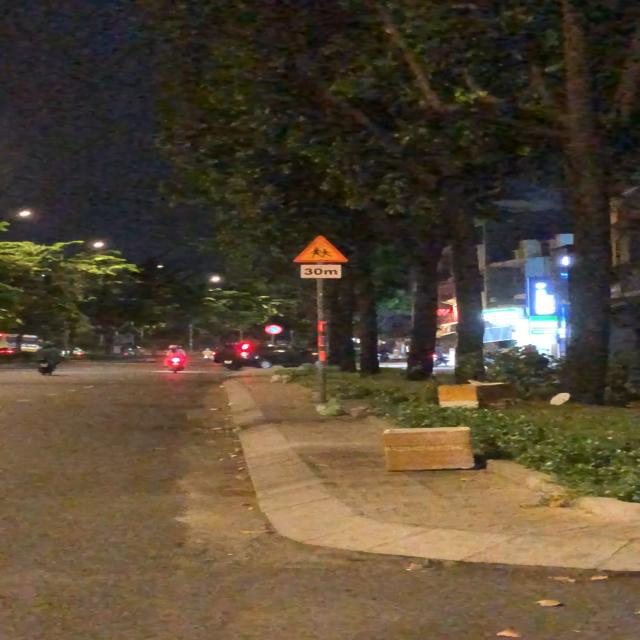Bien bao tre em: (292, 234, 350, 264)
